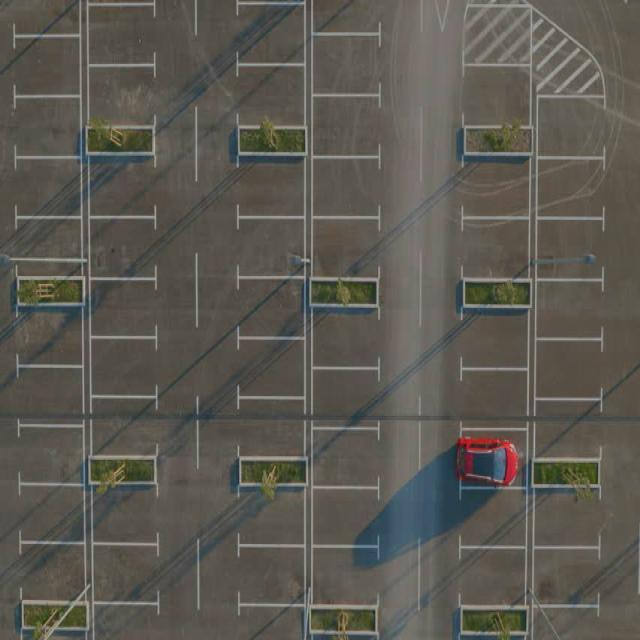car: (454, 422, 532, 498)
free: (457, 302, 532, 382), (536, 208, 609, 290), (457, 358, 530, 438), (447, 490, 530, 558), (460, 58, 533, 134), (460, 150, 532, 227), (535, 331, 605, 410), (454, 540, 528, 614), (536, 90, 608, 166), (457, 214, 532, 286), (538, 272, 608, 349), (531, 486, 603, 556), (533, 542, 603, 612), (538, 157, 608, 226), (535, 394, 606, 459)
